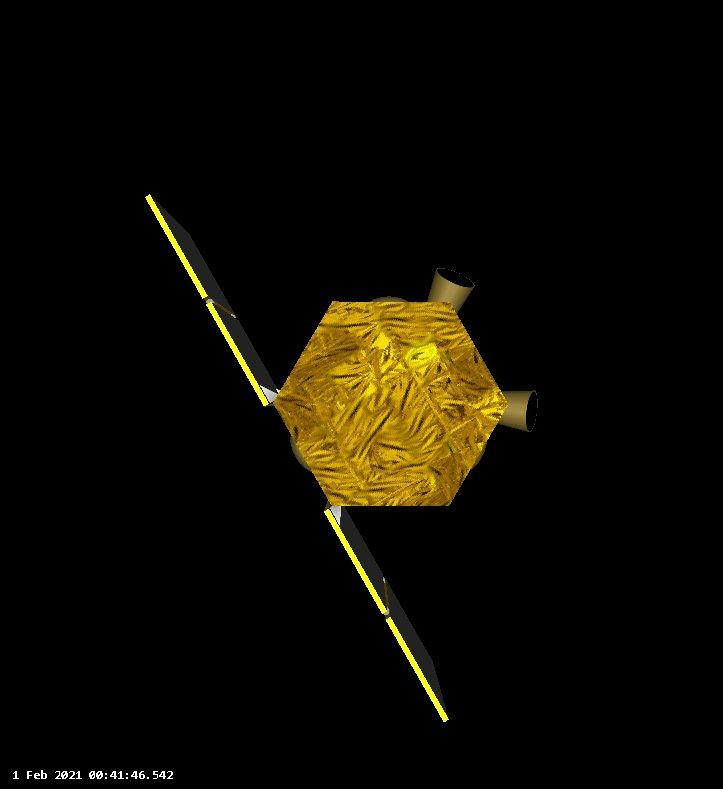body: (272, 298, 511, 510)
solar: (321, 496, 456, 728), (143, 193, 284, 410)
thruster: (424, 267, 475, 315), (496, 387, 543, 433)
